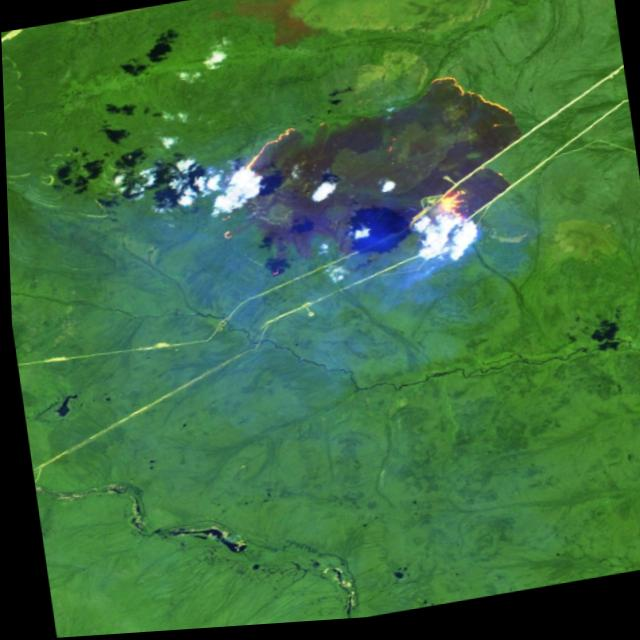fire: (197, 69, 531, 290)
